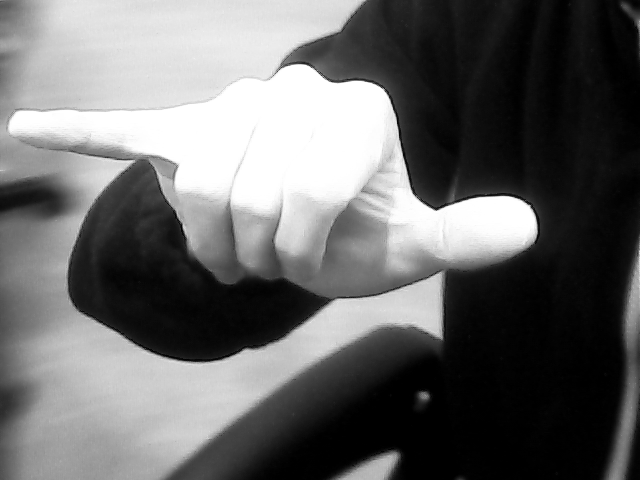aloha: (8, 62, 541, 304)
